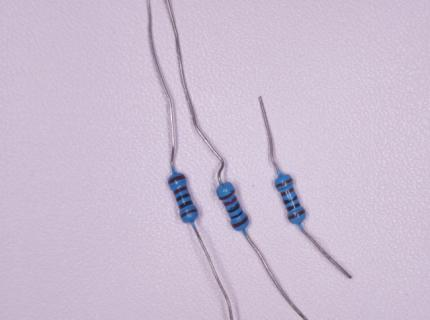Brown band: (280, 187, 294, 197), (173, 186, 188, 195)
